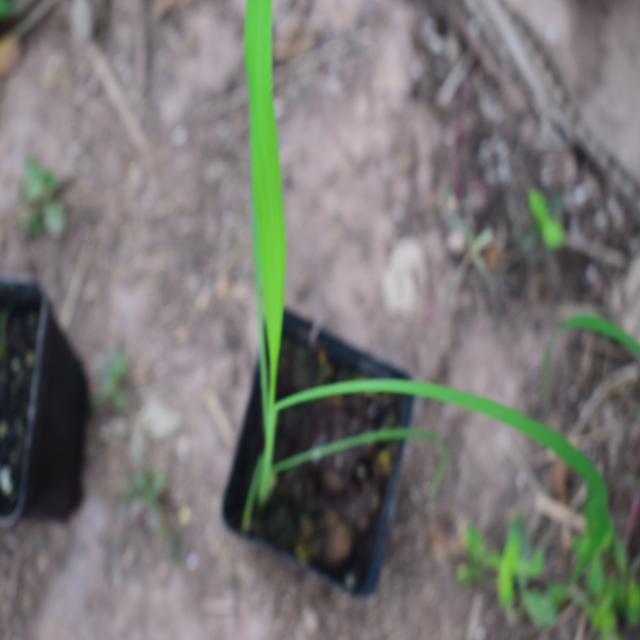barnyard_grass: (230, 0, 610, 542)
